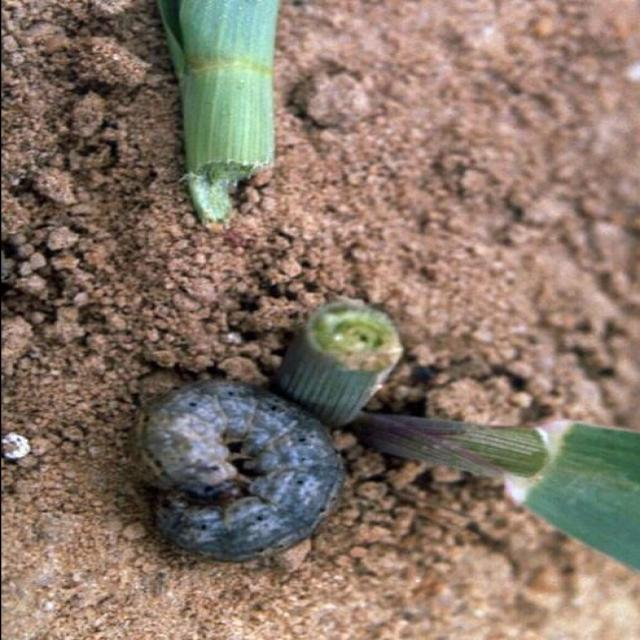black cutworm: (137, 384, 347, 574)
